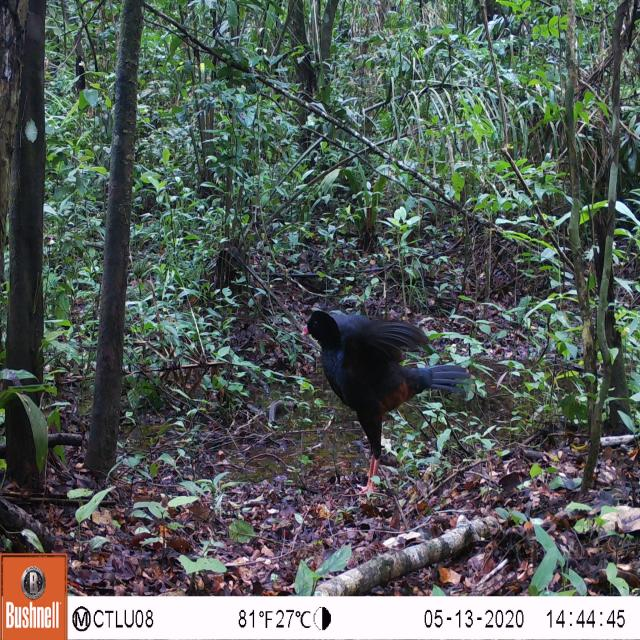Salvins Curassow: (294, 294, 473, 510)
